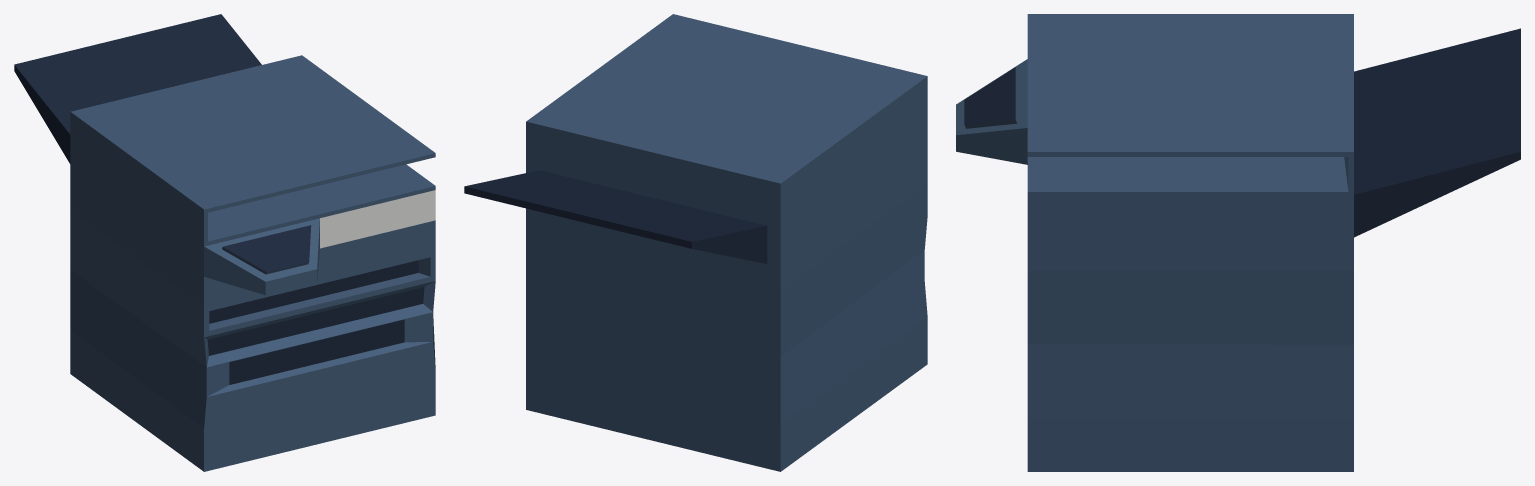
File: CopyMachine.fbx
3 renders of one model, left to right at view 1: azimuth 30°, elevation 25°; view 2: azimuth 150°, elevation 25°; view 3: azimuth 270°, elevation 25°, orthographic. The views are drawn at different scales.
Parts seen in each view (by area): view 1: Copymachine; view 2: Copymachine; view 3: Copymachine.
Boxes of the visible parts, x1,y1,x2,y2 form: Copymachine: (14, 14, 435, 471); Copymachine: (464, 14, 927, 471); Copymachine: (956, 14, 1520, 471).
Size of the model in its own units: 200 by 216 by 346.
